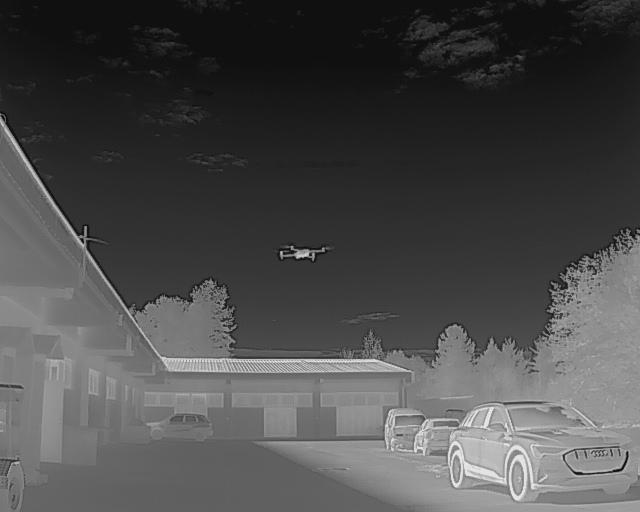drone: (268, 238, 332, 266)
